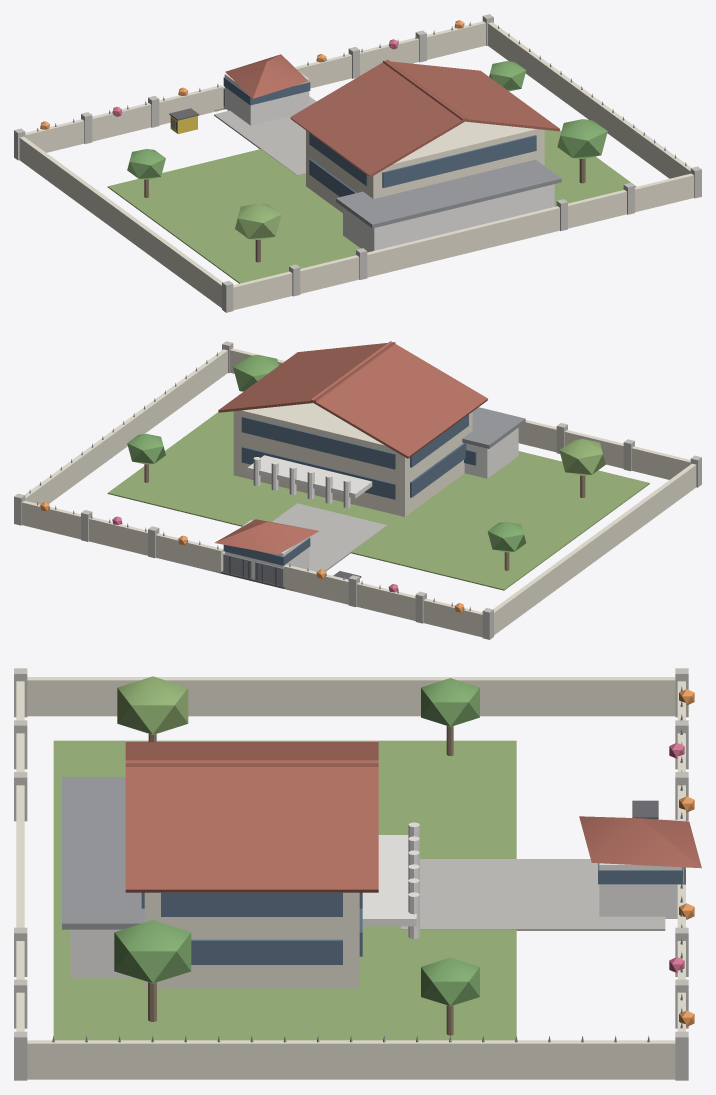
Rendered from villa_asokoro_4.glb.
3 renders of one model, top to bottom at view 1: azimuth 30°, elevation 25°; view 2: azimuth 150°, elevation 25°; view 3: azimuth 270°, elevation 25°, orthographic. The views are drawn at different scales.
Parts seen in each view (by area): view 1: BLD_villa_asokoro_4; view 2: BLD_villa_asokoro_4; view 3: BLD_villa_asokoro_4.
Part boxes in pixels (<box>): BLD_villa_asokoro_4: <box>14,14,701,312</box>; BLD_villa_asokoro_4: <box>14,341,701,639</box>; BLD_villa_asokoro_4: <box>14,668,701,1080</box>.
Size of the model in its own units: 52.8 by 10.81 by 41.62.
